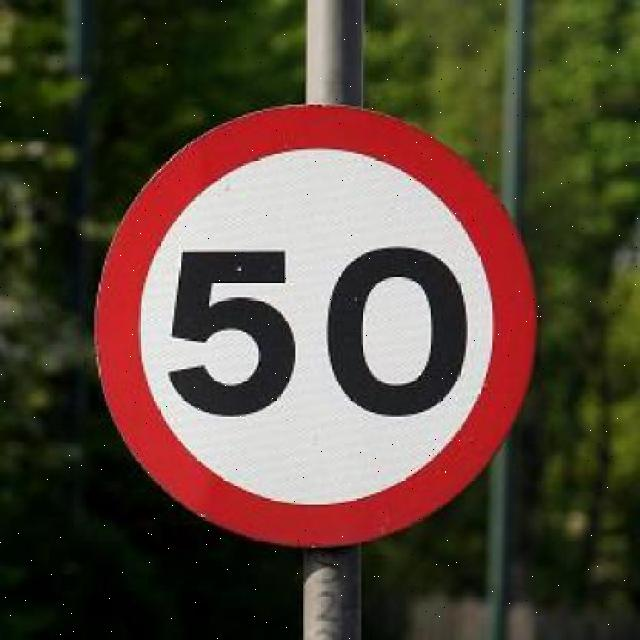speed limit 50: (90, 104, 539, 549)
